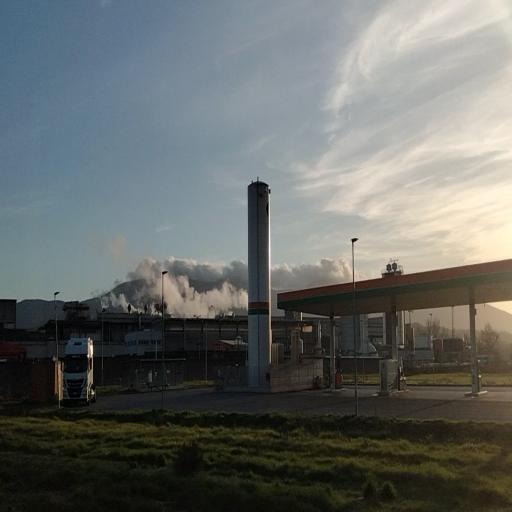leakage: (103, 271, 248, 318)
